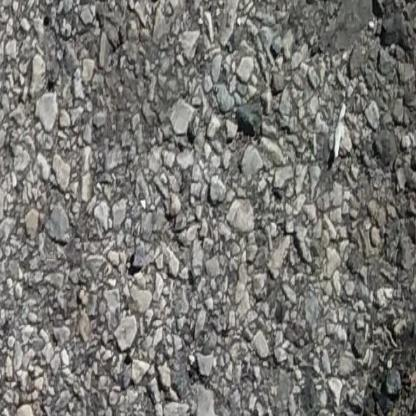Cracks: (338, 316, 416, 416)
